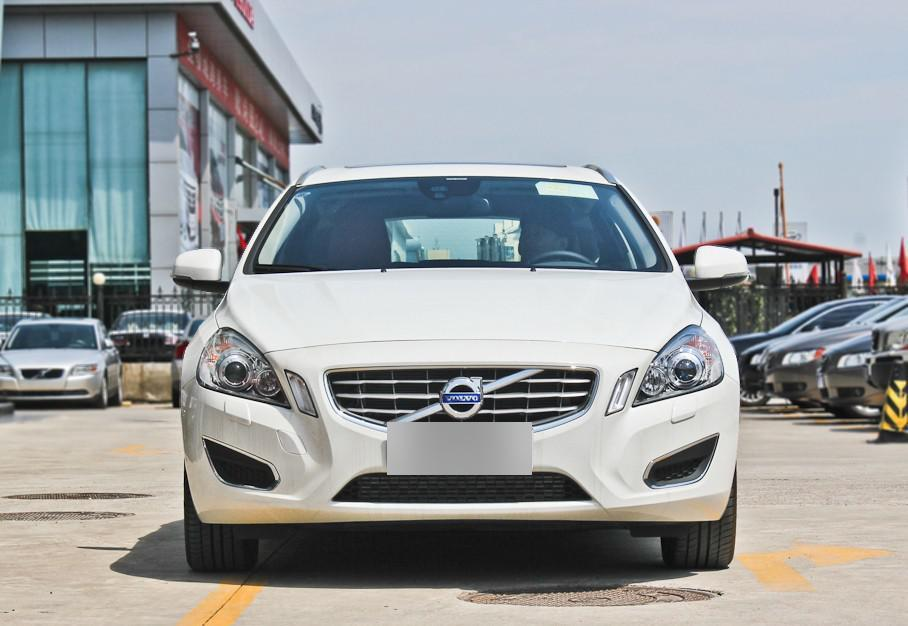Wagon: (171, 162, 741, 572)
